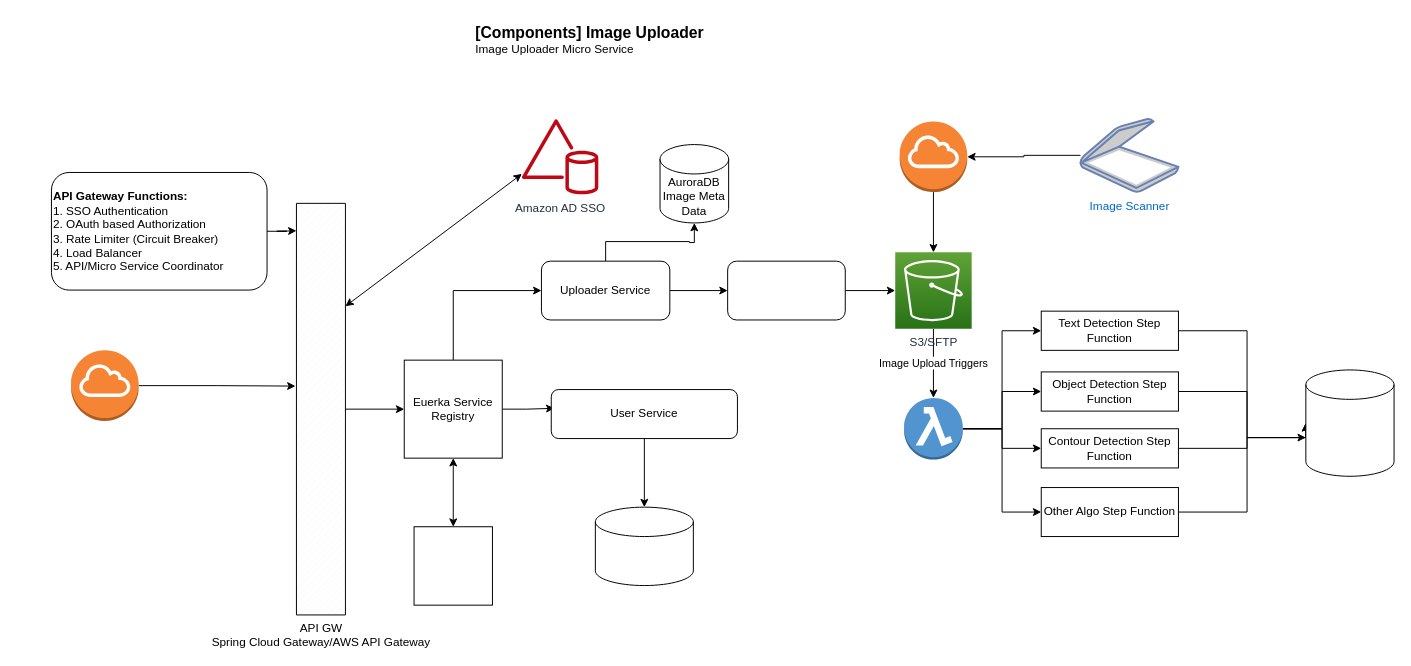
Image size: 1411x666. Some labels were removed from this diagram. The centre of each missing label's shape, as x and y in pixels:
AuroraDB Image Analysis DB (Image Score): (x=1349, y=422)
Image Analyser Micro Service (Serverless App): (x=933, y=428)
Image Chunker Service: (x=786, y=290)
Internet Gateway https://imageanalyser.reddys.com: (x=104, y=385)
Internet Gateway sftp://imageb2b.reddys.com: (x=933, y=156)
MySQL/AuroraDB User and Roles: (x=643, y=546)
OAuth (Open API) Server: (x=452, y=565)
